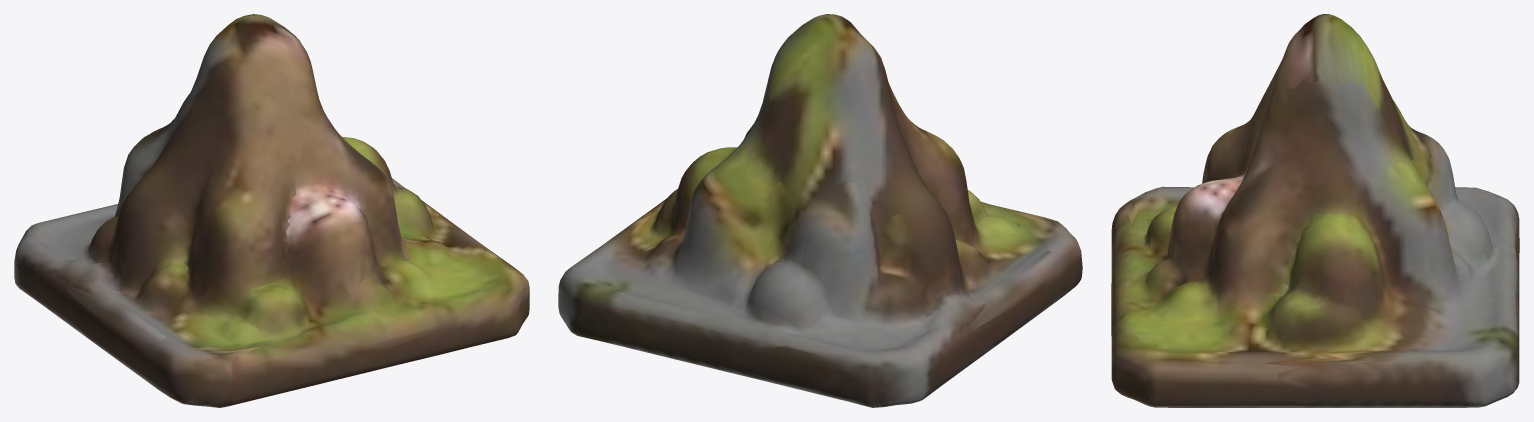
File: s14_monte_lama.glb
The picture shows the model from 3 angles, left to right: view 1: azimuth 30°, elevation 25°; view 2: azimuth 150°, elevation 25°; view 3: azimuth 270°, elevation 25°; orthographic projection. The views are drawn at different scales.
Parts seen in each view (by area): view 1: s14_monte_lama; view 2: s14_monte_lama; view 3: s14_monte_lama.
Boxes of the visible parts, <box> form: s14_monte_lama: <box>14,14,529,407</box>; s14_monte_lama: <box>558,14,1082,407</box>; s14_monte_lama: <box>1111,14,1519,407</box>.
Bounding box in the file's own units: 1.06 × 0.8127 × 1.02.
Materials: 1 (1 with a texture image).
